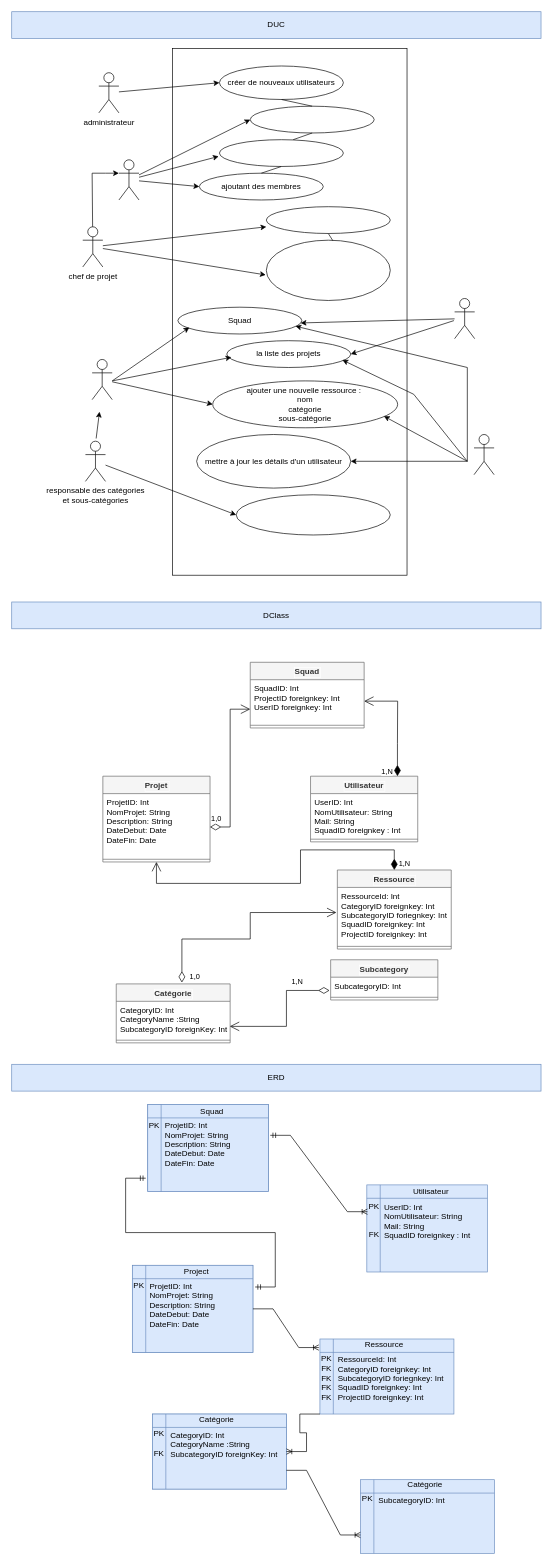
This 553x1565 diagram has some shape labels left out. Here are the shapes that lost their labels. From the top down, the centre of each, then its label:
the point at 312,119: créer un nouveau squad
the point at 281,152: spécifiant le nom
the point at 128,179: leader
the point at 328,219: créer un nouveau projet
the point at 328,270: détails : le nom la description les dates
the point at 464,318: membre de squad
the point at 101,379: responsable des ressources
the point at 483,454: développeur Fullstack
the point at 313,514: créer de nouvelles catégories et sous-catégories
